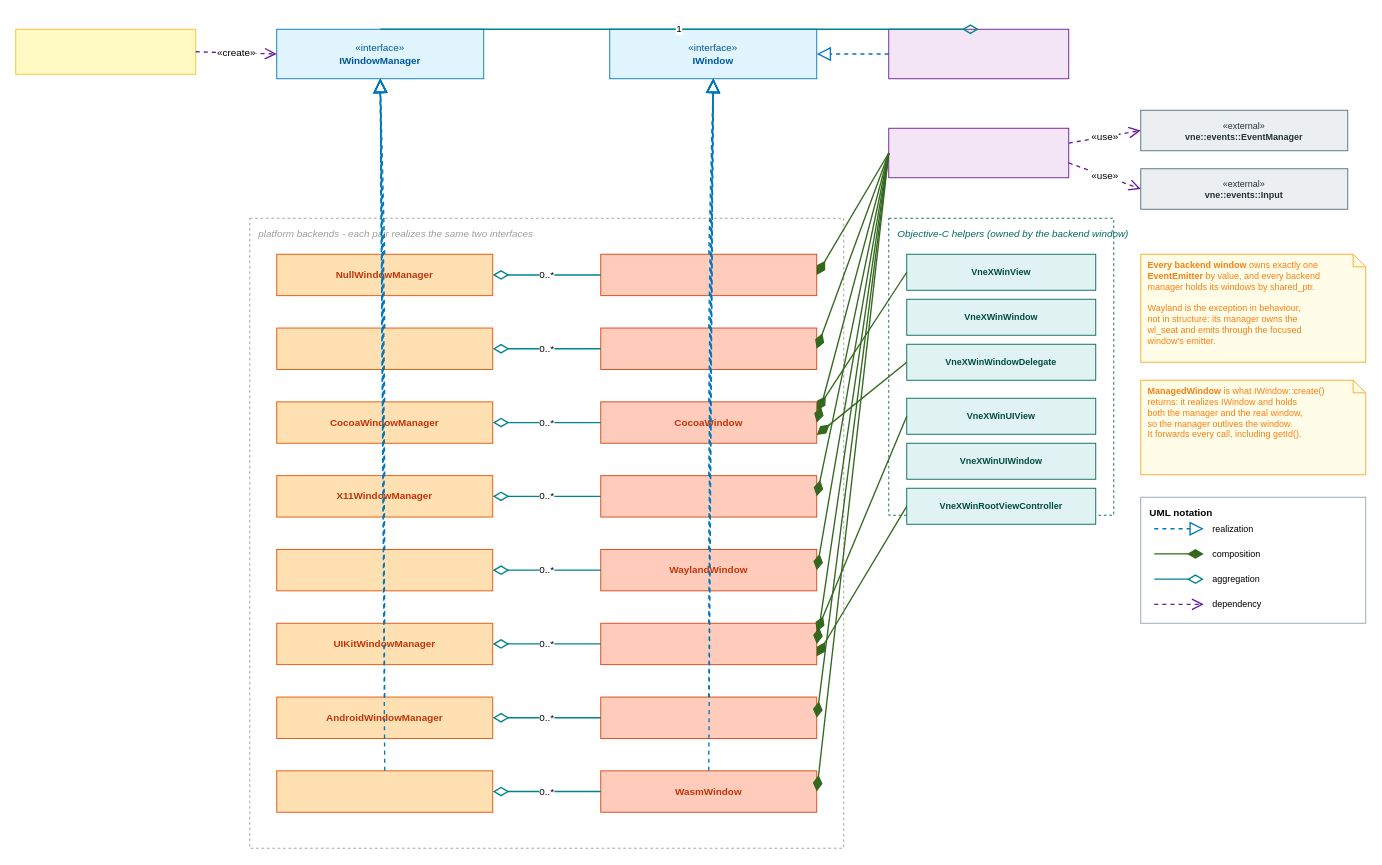
This 1382x865 diagram has some shape labels left out. Each missing label, with the centre of its shape:
"AndroidWindow" goes at [708,717].
"NullWindow" goes at [708,274].
"UIKitWindow" goes at [708,643].
"WasmWindowManager" goes at [384,791].
"WaylandWindowManager" goes at [384,570].
"Win32Window" goes at [708,348].
"Win32WindowManager" goes at [384,348].
"X11Window" goes at [708,496].
"«internal» EventEmitter" goes at [978,152].
"«internal» ManagedWindow" goes at [978,53].
"«utility» WindowFactory" goes at [105,51].
